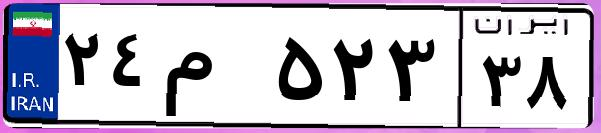2: (330, 28, 385, 110), (57, 26, 110, 100)
3: (385, 28, 445, 110), (475, 38, 525, 113)
4: (110, 28, 158, 98)
5: (270, 28, 330, 110)
8: (525, 38, 570, 115)
م: (158, 20, 270, 120)
